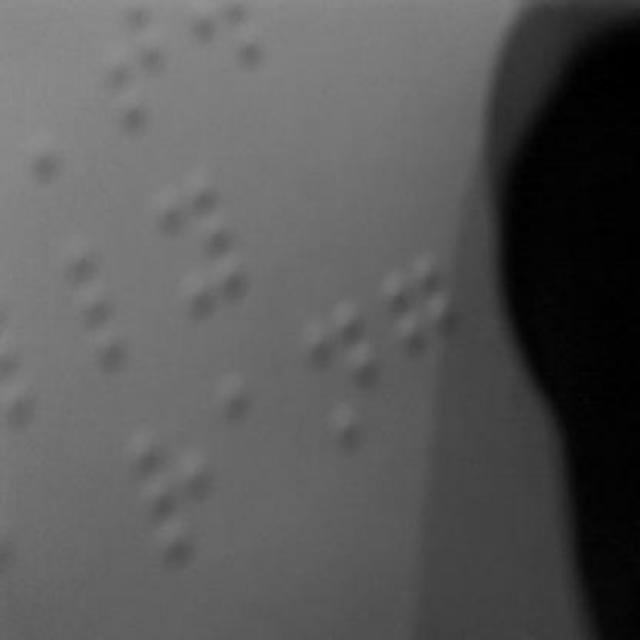braiile: (383, 249, 489, 415), (154, 176, 254, 314), (128, 422, 222, 564), (304, 296, 386, 448), (62, 240, 156, 370)
